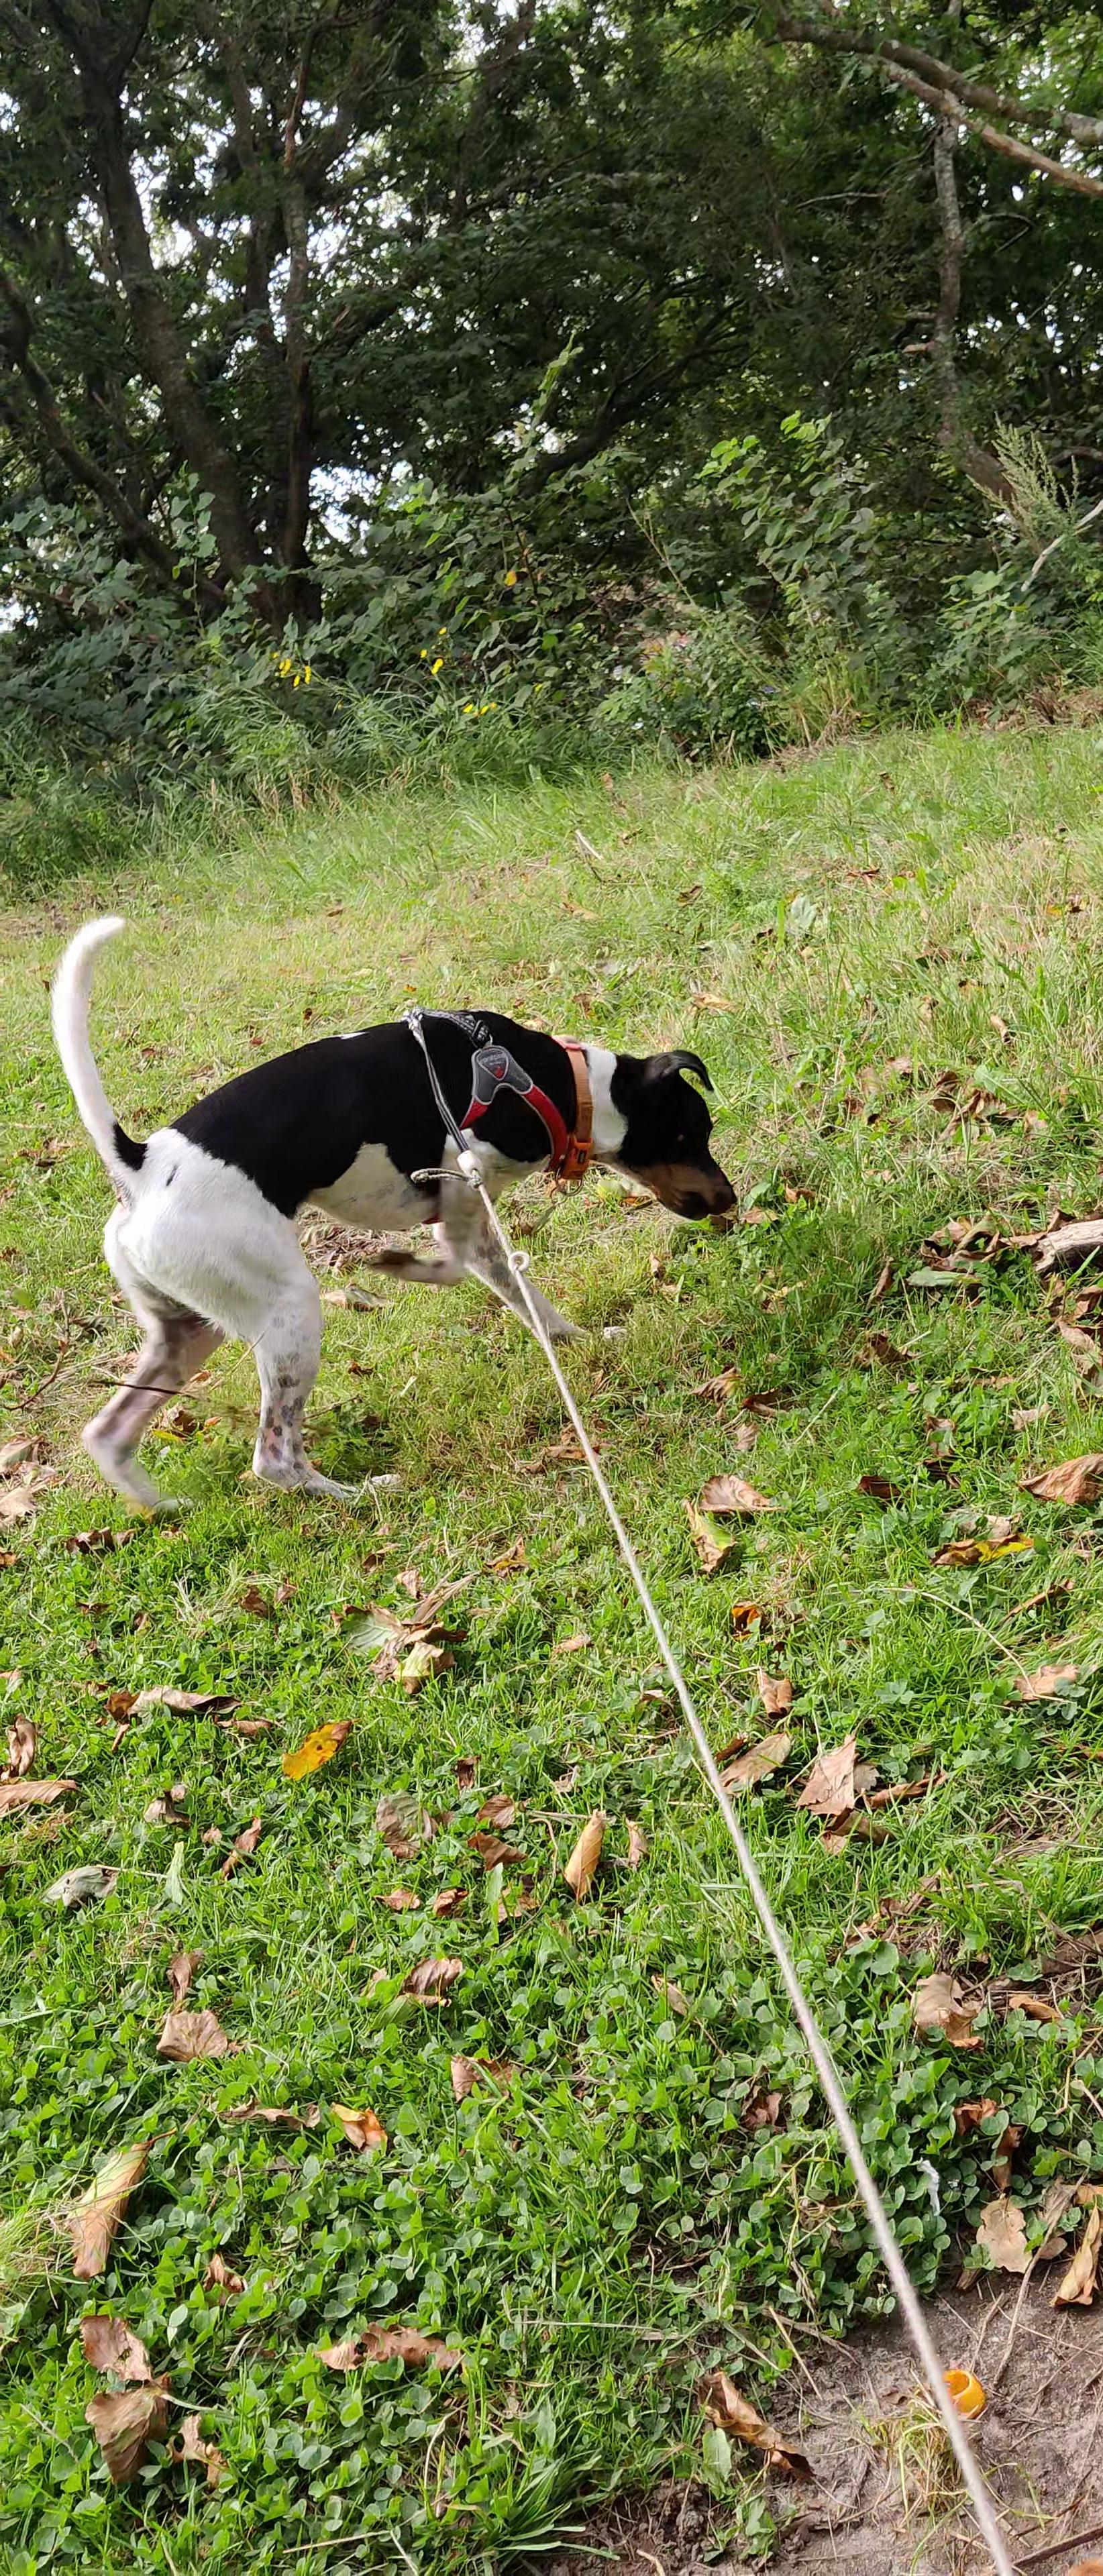Dog: (44, 907, 745, 1533)
